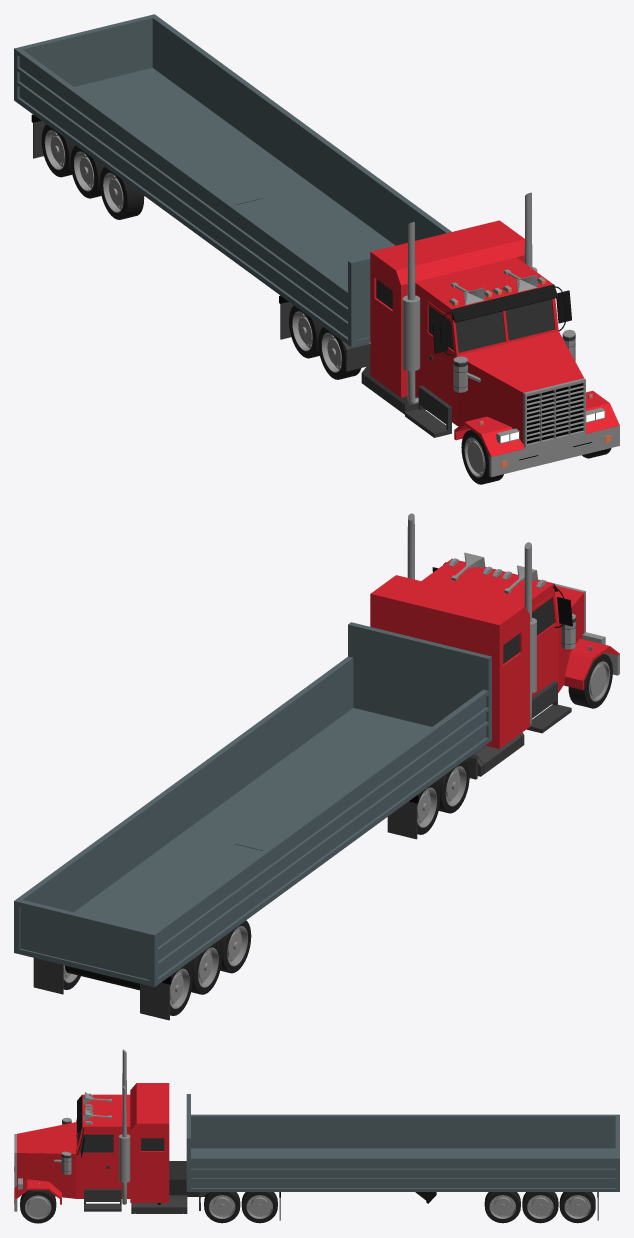
File: LowBed.glb
3 renders of one model, top to bottom at view 1: azimuth 30°, elevation 25°; view 2: azimuth 150°, elevation 25°; view 3: azimuth 270°, elevation 25°, orthographic. The views are drawn at different scales.
Visible parts, largest first — view 1: Truck back 1, Cube.055, Cube.053, Cube.062, Cube.052, Cube.051, Cylinder.038, Cylinder.012, Plane.006, Cylinder.011, Cube.059, Cube.054 (+8 smaller); view 2: Truck back 1, Cube.053, Cube.055, Cylinder.011, Cube.066, Cylinder.012, Plane.006, Cube.050, Cylinder.028, Cylinder.038, Cylinder.027, Cube.057 (+2 smaller); view 3: Truck back 1, Cube.055, Cube.053, Cylinder.011, Cylinder.012, Cylinder.028, Cylinder.027, Cylinder.037, Cube.049, Cube.056, Cube.021, Cube.062 (+5 smaller).
Part boxes in pixels (x1,y1,x2,y2): Truck back 1: (14,14,451,347); Cube.055: (415,257,583,443); Cube.053: (370,220,524,397); Cube.062: (428,299,554,352); Cube.052: (523,378,585,448); Cube.051: (489,425,619,477); Cylinder.038: (402,222,420,404); Cylinder.012: (41,124,144,219); Plane.006: (454,390,619,456); Cylinder.011: (44,130,123,212); Cube.059: (527,383,582,443); Cube.054: (451,284,558,322); Truck back 1: (14,622,491,987); Cube.053: (370,575,529,748); Cube.055: (421,559,584,696); Cylinder.011: (63,926,247,1008); Cube.066: (33,958,169,1020); Cylinder.012: (63,920,251,1015); Plane.006: (563,638,619,689); Cube.050: (526,681,571,733); Cylinder.028: (417,766,466,827); Cylinder.038: (524,542,536,726); Cylinder.027: (417,760,469,834); Cube.057: (473,732,524,776); Truck back 1: (186,1094,619,1191); Cube.055: (17,1094,130,1198); Cube.053: (130,1083,169,1202); Cylinder.011: (489,1195,590,1218); Cylinder.012: (484,1192,595,1223); Cylinder.028: (209,1195,272,1218); Cylinder.027: (204,1192,277,1223); Cylinder.037: (119,1086,130,1204); Cube.049: (84,1189,121,1211); Cube.056: (131,1195,187,1213); Cube.021: (169,1161,205,1196); Cube.062: (77,1132,113,1152).
Size of the model in its own units: 3.74 by 5.38 by 21.68.
